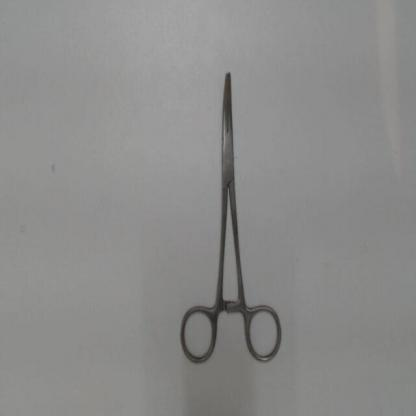Crile Artery Forceps: (174, 61, 288, 368)
